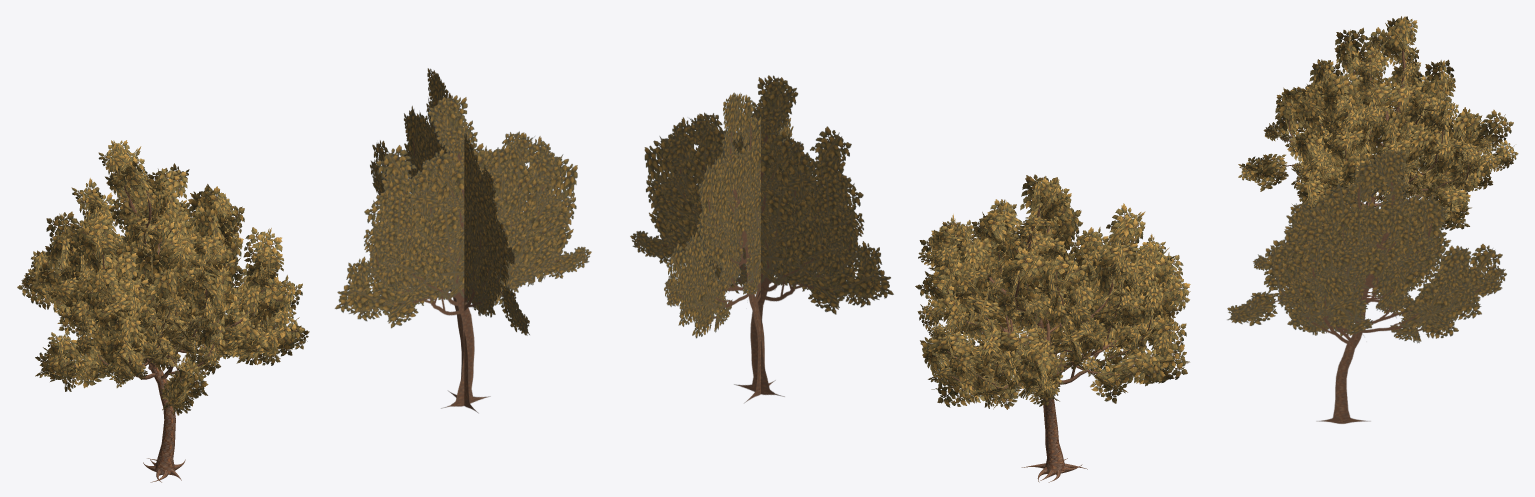
The model's file is tree3.glb.
The picture shows the model from 3 angles, left to right: view 1: azimuth 30°, elevation 25°; view 2: azimuth 150°, elevation 25°; view 3: azimuth 270°, elevation 25°; orthographic projection. The views are drawn at different scales.
Parts seen in each view (by area): view 1: Leaves_LOD0.002, Empty.005, Branches_LOD0.002; view 2: Leaves_LOD0.002, Empty.005, Branches_LOD0.002; view 3: Empty.005, Leaves_LOD0.002, Branches_LOD0.002.
Part boxes in pixels (x1,y1,x2,y2): Leaves_LOD0.002: (17,140,309,415); Empty.005: (334,68,591,413); Branches_LOD0.002: (61,185,269,482); Leaves_LOD0.002: (915,174,1190,409); Empty.005: (630,75,893,403); Branches_LOD0.002: (936,205,1151,482); Empty.005: (1227,149,1506,423); Leaves_LOD0.002: (1238,16,1518,230); Branches_LOD0.002: (1279,44,1496,299).
Size of the model in its own units: 58.1 by 32.25 by 30.89.
Materials: 3 (3 with a texture image).
